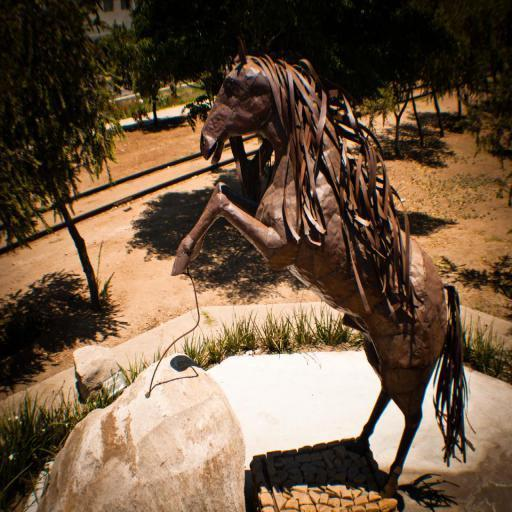horse: (172, 36, 478, 497)
